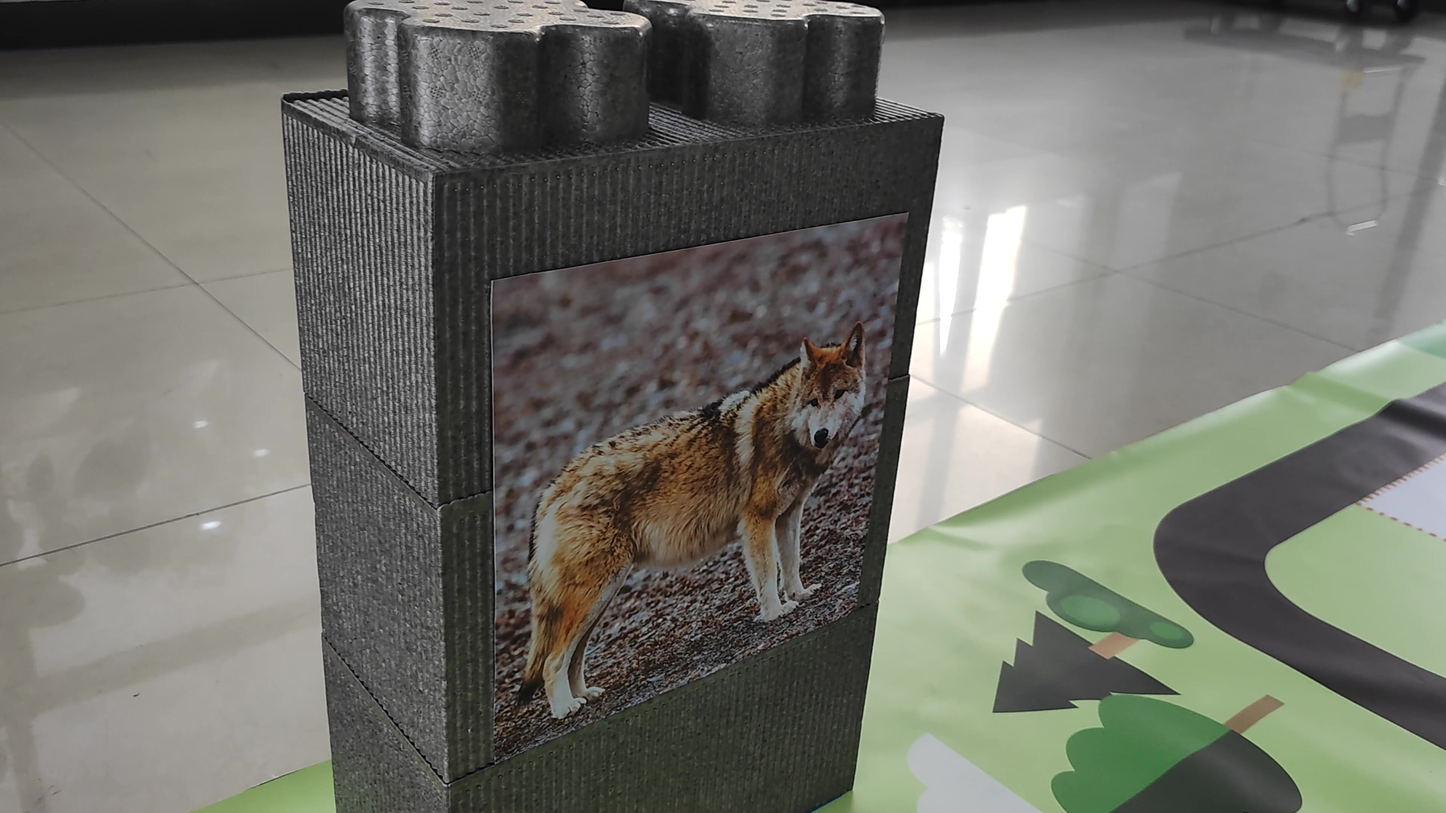wolf: (511, 260, 871, 691)
